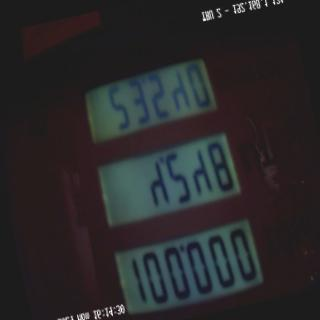screen: (61, 35, 272, 320)
